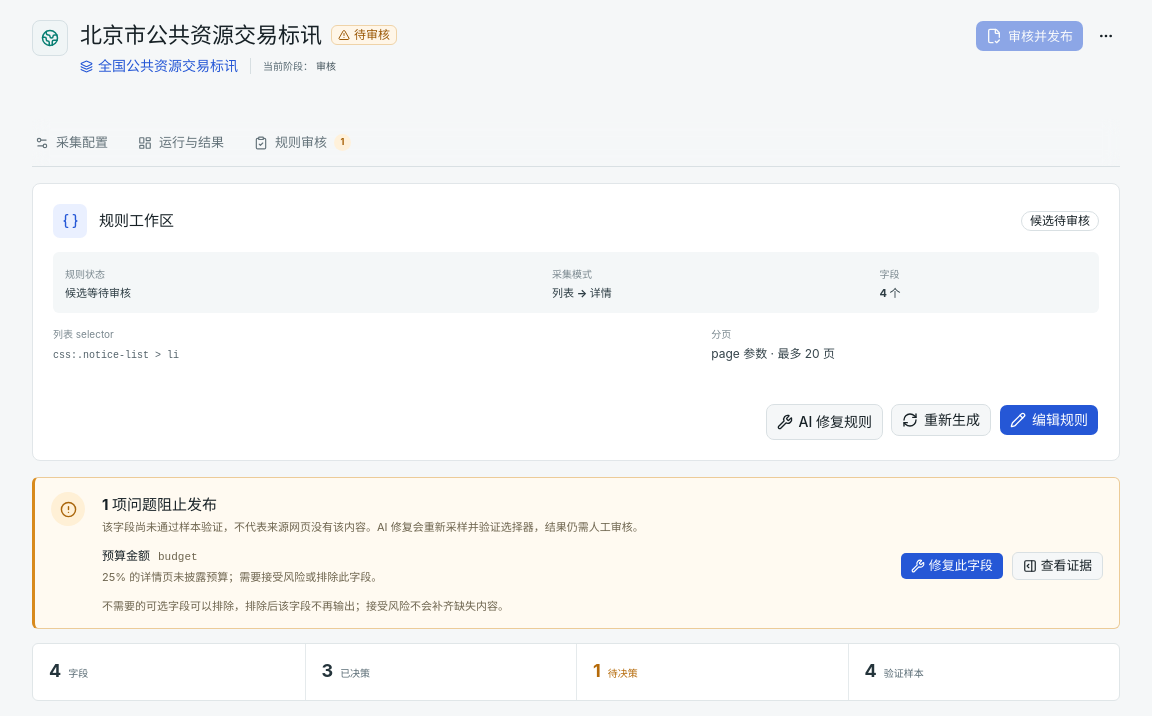
Test: Collector output loop surfaces › redelivers a dead-lettered delivery and refreshes its status
expect the heading "北京市公共资源交易标讯" is shown: met, box [80, 20, 322, 50]
Click the tab "采集配置": (72,143) [32, 120, 111, 166]
(page scrolled)
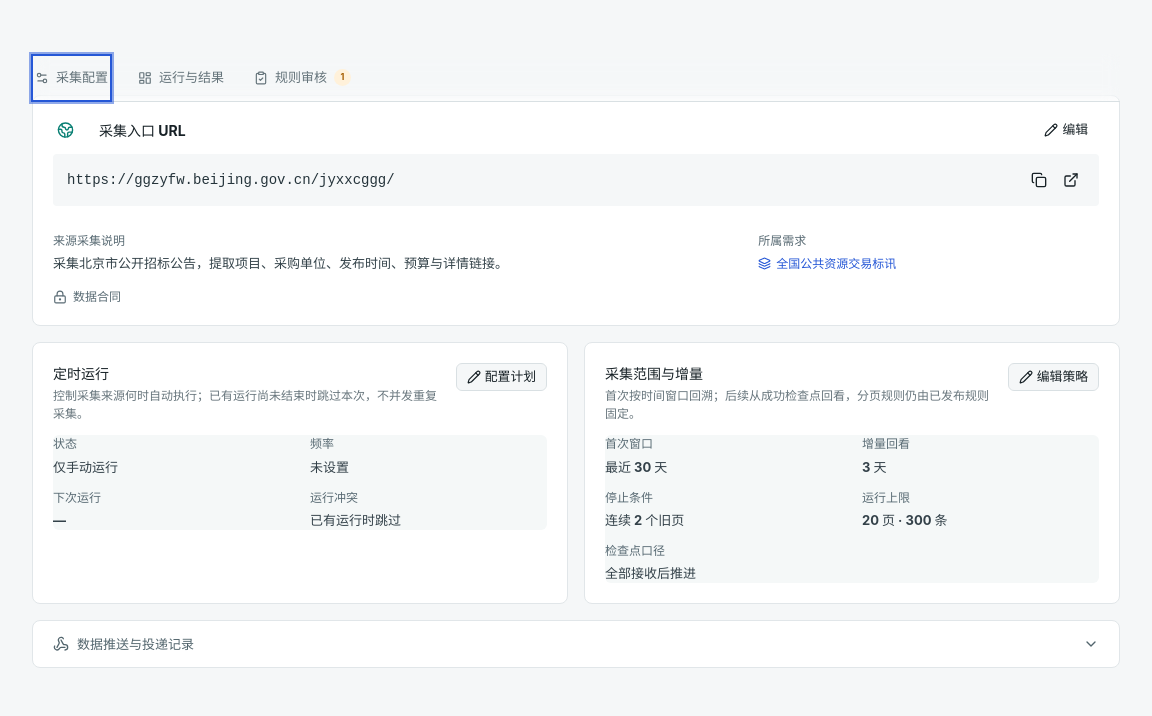
Click the heading "数据推送与投递记录": (136,644) [53, 636, 1099, 652]
(page scrolled)
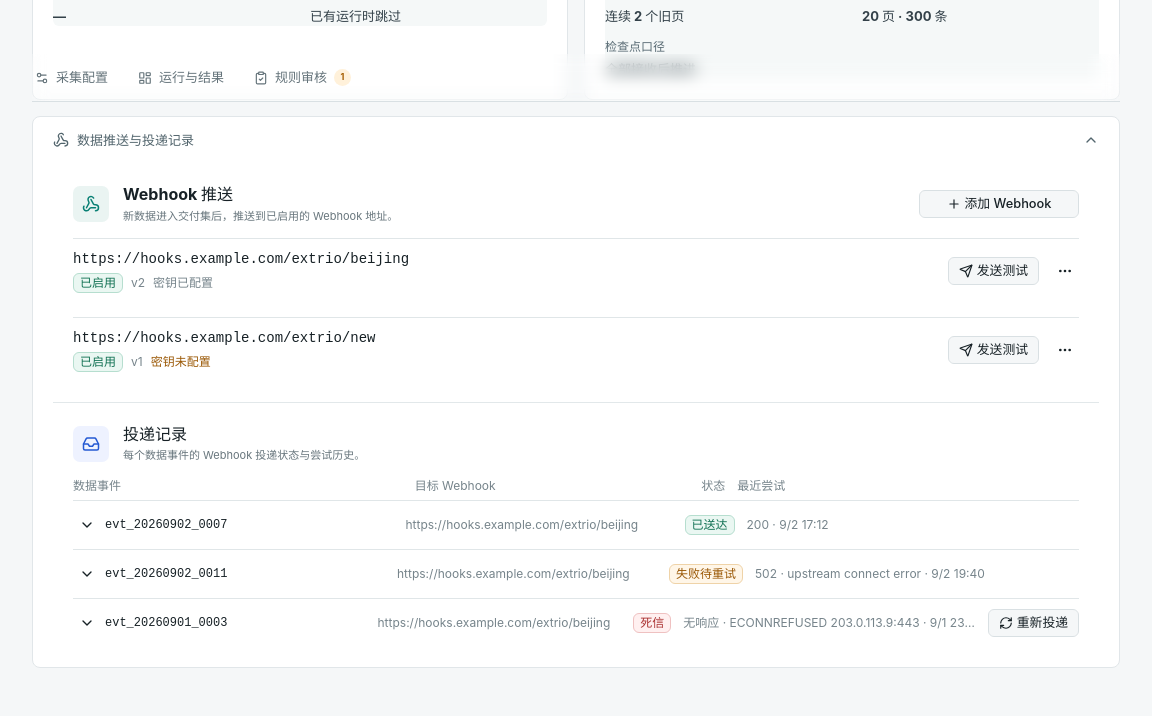
expect the element named "Webhook 推送配置" is shown: met, box [53, 163, 1099, 403]
Click the button with aria-label "重新投递 delivery_beijing_0901_c": (1033,623) [988, 609, 1079, 637]
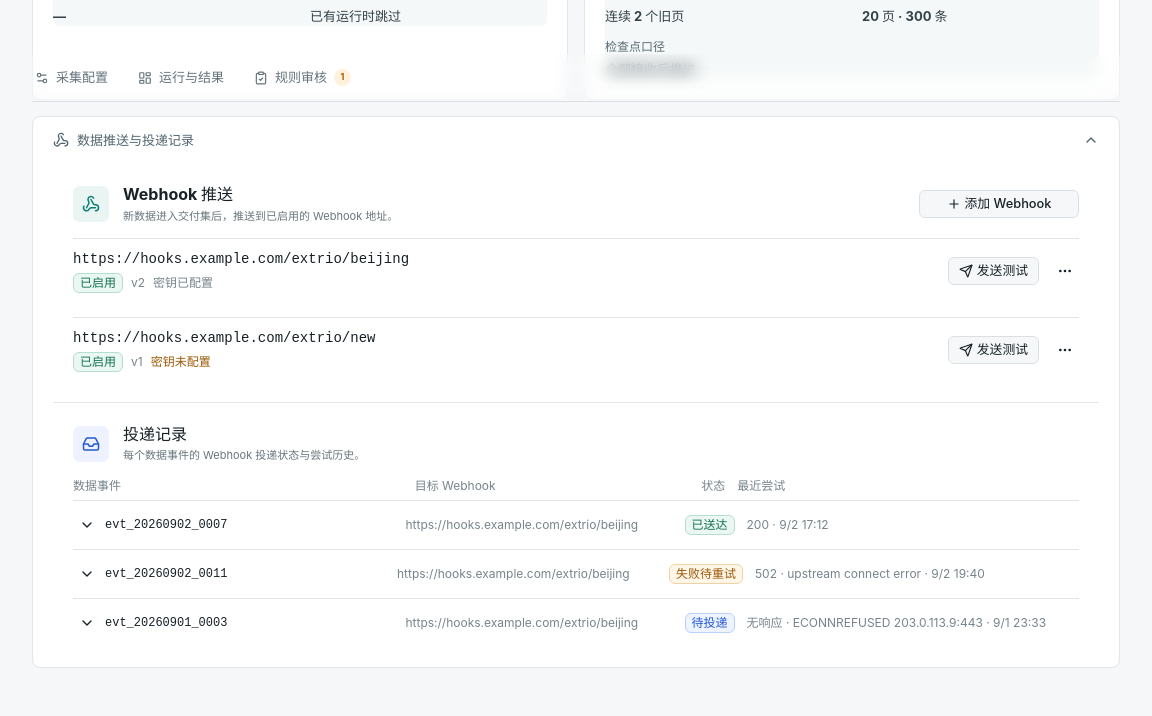
expect the icon "待投递" is shown: met, box [684, 613, 734, 633]
